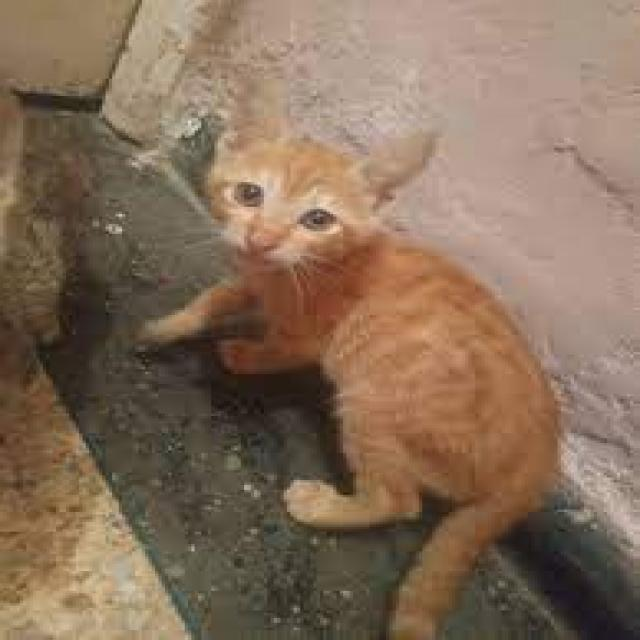cat: (168, 102, 618, 598)
